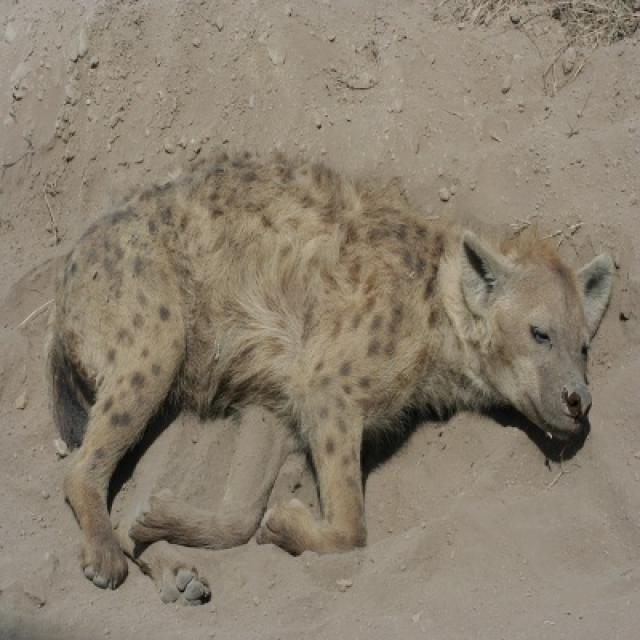hyena: (45, 150, 616, 592)
